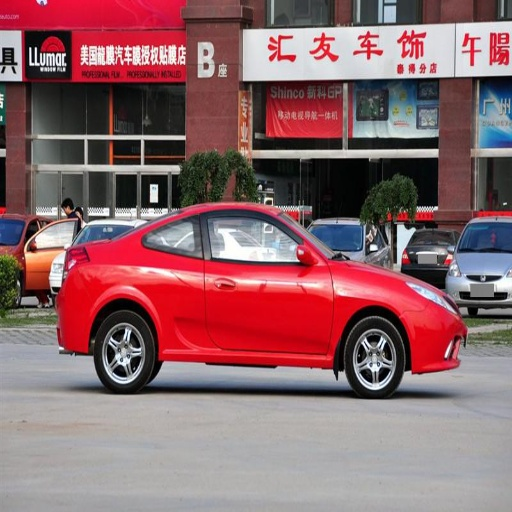front_right_door: (206, 210, 332, 353)
